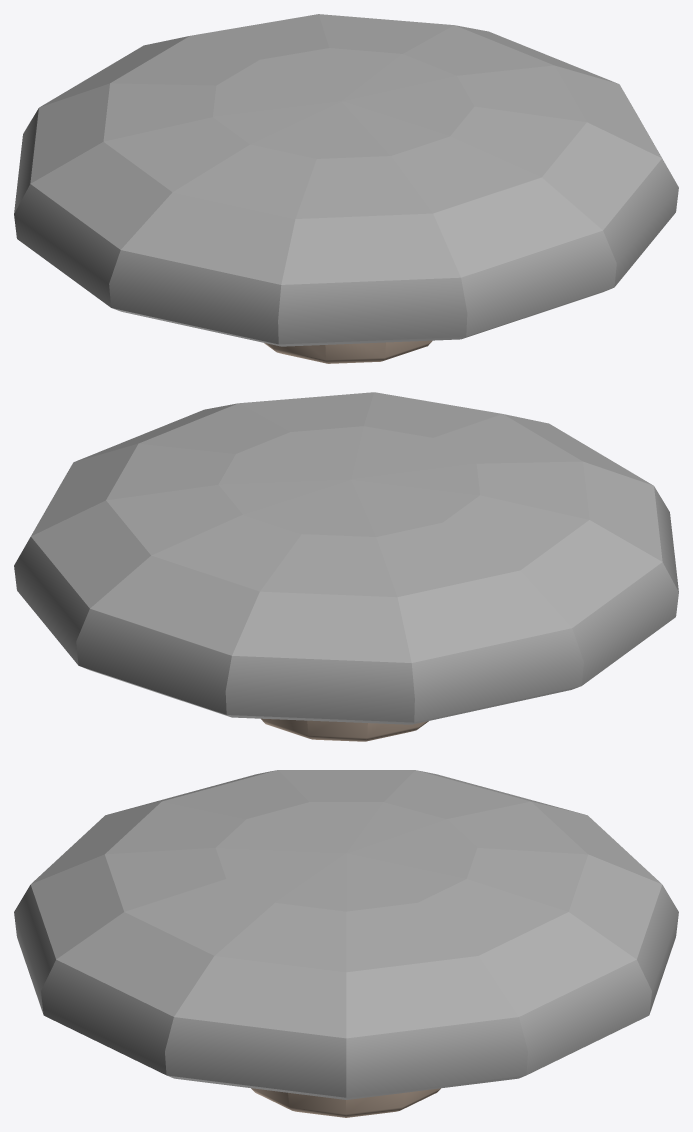
The model's file is Flat_Mushroom.fbx.
The picture shows the model from 3 angles, top to bottom: view 1: azimuth 30°, elevation 25°; view 2: azimuth 150°, elevation 25°; view 3: azimuth 270°, elevation 25°; orthographic projection.
Parts seen in each view (by area): view 1: pasted__FlatMushroom_L; view 2: pasted__FlatMushroom_L; view 3: pasted__FlatMushroom_L.
Part boxes in pixels (x1,y1,x2,y2): pasted__FlatMushroom_L: [14, 14, 678, 363]; pasted__FlatMushroom_L: [14, 392, 678, 741]; pasted__FlatMushroom_L: [14, 770, 678, 1117].
Bounding box in the file's own units: 4.32 × 1.63 × 4.36.
